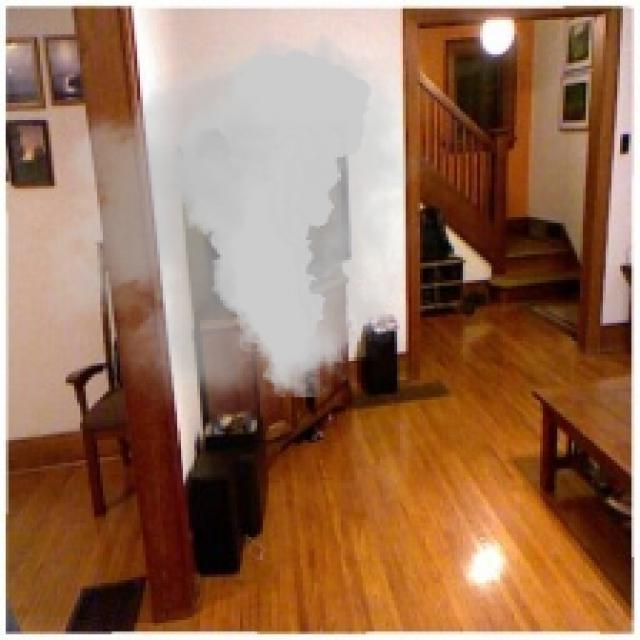Smoke: (23, 23, 440, 423)
